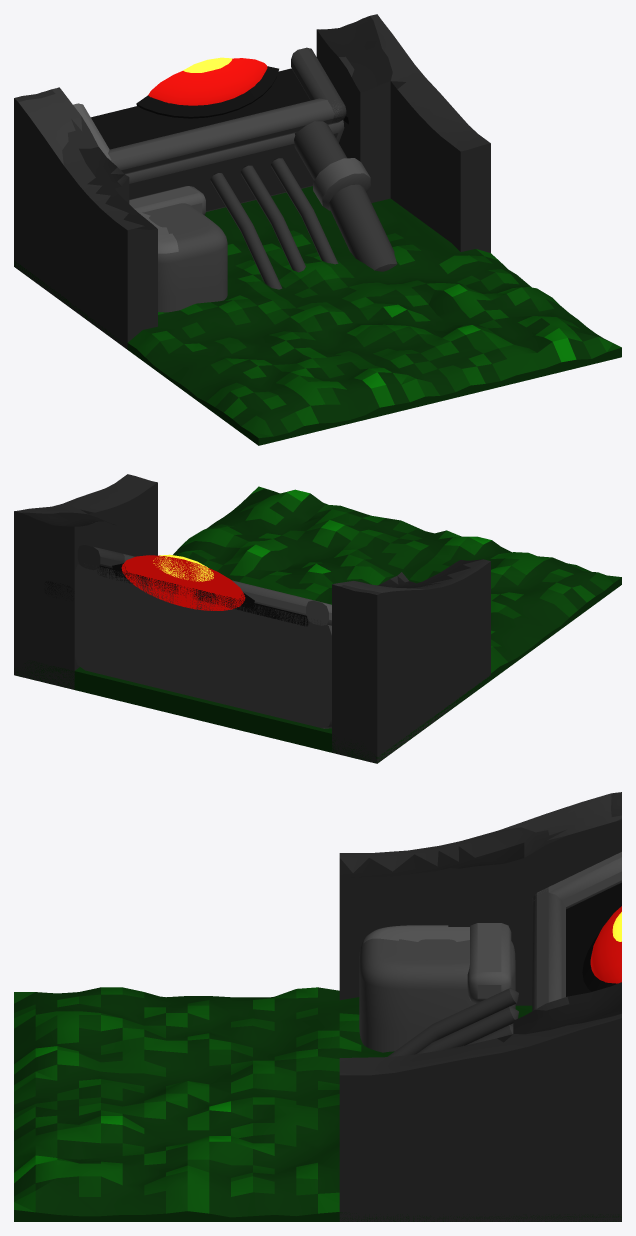
File: cliff_bunker_base.glb
The picture shows the model from 3 angles, top to bottom: view 1: azimuth 30°, elevation 25°; view 2: azimuth 150°, elevation 25°; view 3: azimuth 270°, elevation 25°; orthographic projection. The views are drawn at different scales.
Visible parts, largest first — view 1: foliage, cliff, support, housing, frame_s, strut, well, eye, eye_socket, bar10, frame_e, bar12 (+3 smaller); view 2: cliff, foliage, housing, eye, well, frame_s, frame_e, eye_hot, frame_w; view 3: cliff, foliage, support, frame_s, support_plate, well, bar10, frame_w, eye, bar12.
Boxes of the visible parts, x1,y1,x2,y2 form: foliage: (14,186,621,445); cliff: (14,14,490,349); support: (139,203,227,312); housing: (125,120,344,211); frame_s: (108,98,343,174); strut: (294,121,397,271); well: (91,68,310,149); eye: (148,58,267,105); eye_socket: (136,66,278,118); bar10: (210,173,282,289); frame_e: (291,47,346,124); bar12: (240,165,305,272); cliff: (14,474,490,763); foliage: (14,486,621,763); housing: (74,563,331,728); eye: (121,555,245,610); well: (97,565,308,626); frame_s: (123,554,330,615); frame_e: (77,544,124,570); eye_hot: (153,554,213,581); frame_w: (306,600,331,625); cliff: (339,792,621,1221); foliage: (14,987,621,1221); support: (359,925,515,1052); frame_s: (532,887,565,1010); support_plate: (467,923,511,1003); well: (566,882,621,996); bar10: (387,988,518,1056); frame_w: (532,852,621,909); eye: (590,906,621,983); bar12: (416,1006,518,1054).
Size of the model in its own units: 24 by 11.22 by 28.
